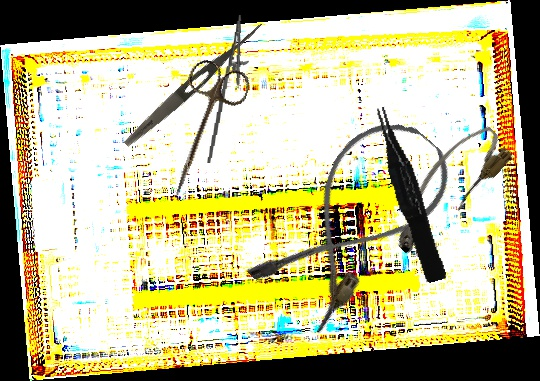Cannula: (240, 101, 467, 338), (376, 117, 517, 261)
Dressing Forceps: (120, 17, 267, 151)
Iris Scissors: (150, 56, 254, 207)
Needle Holder: (207, 13, 253, 166)
Tissue Forceps: (371, 102, 448, 286)
